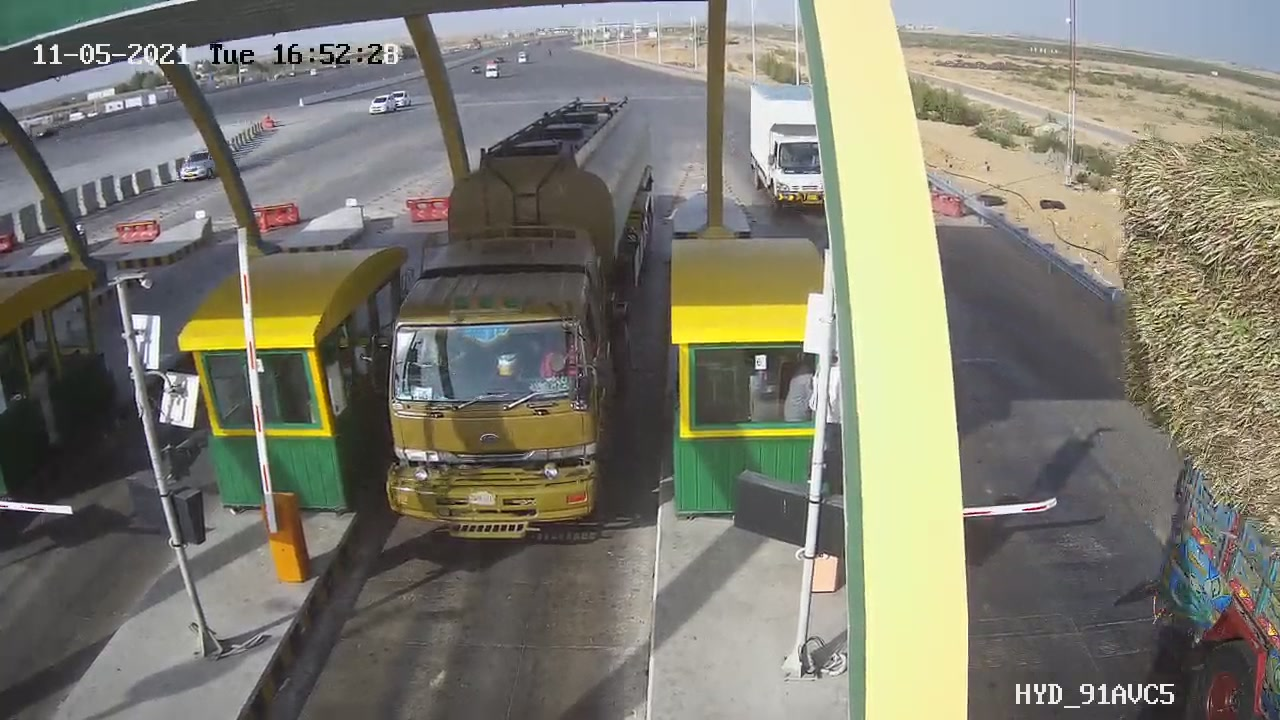F6: (318, 77, 692, 564)
